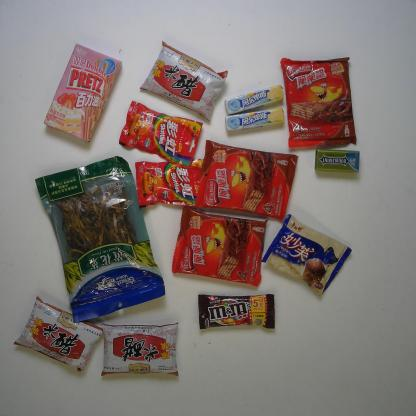Candy: (119, 100, 203, 169), (134, 158, 202, 208), (224, 84, 284, 116), (224, 108, 284, 132)
Chocolate: (198, 294, 275, 329)
Dessert: (196, 140, 298, 222), (43, 43, 123, 144), (171, 206, 270, 287), (261, 214, 352, 297), (280, 57, 357, 148)
Dried Food: (35, 155, 166, 323)
Gum: (314, 149, 360, 174)
Seasoner: (12, 294, 104, 374), (140, 40, 228, 122), (101, 322, 180, 377)
